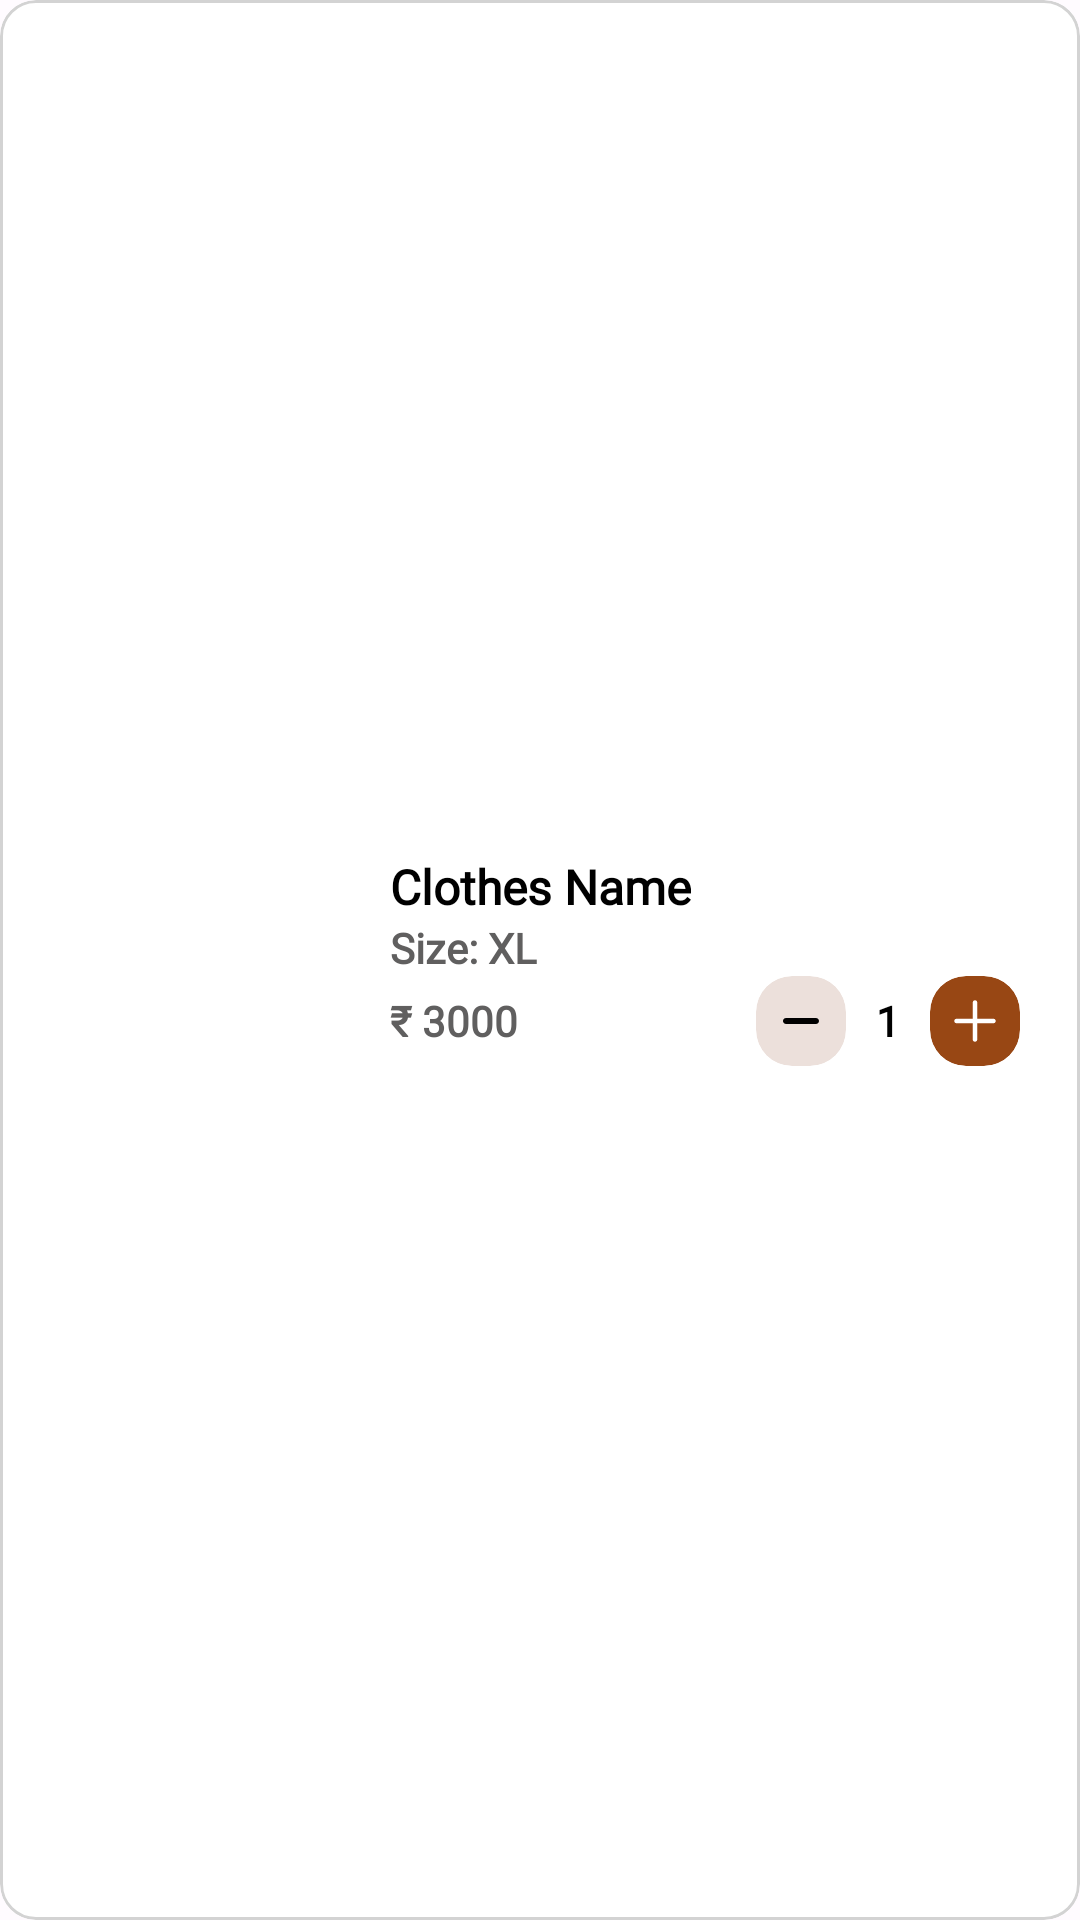

Locate icon controls on the screen. Image size 1080x1920, boxes as (x1, y1, x2, y2).
add: (954, 1000, 996, 1042)
minus: (783, 1018, 819, 1024)
